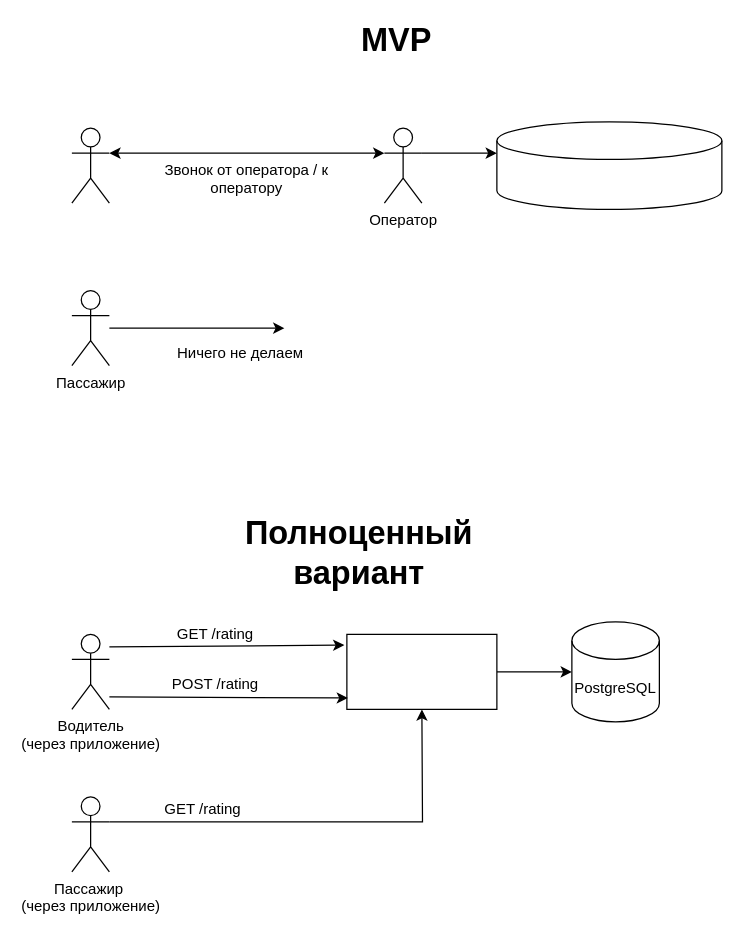
The diagram is 744 pixels wide and 939 high, and some of its shapes have lost their labels. The centre of each missing label's shape, as x and y in pixels:
passenger rating: pixel 421 671
Водитель: pixel 90 165
Храним данные по идентификатору пассажира: pixel 609 165
